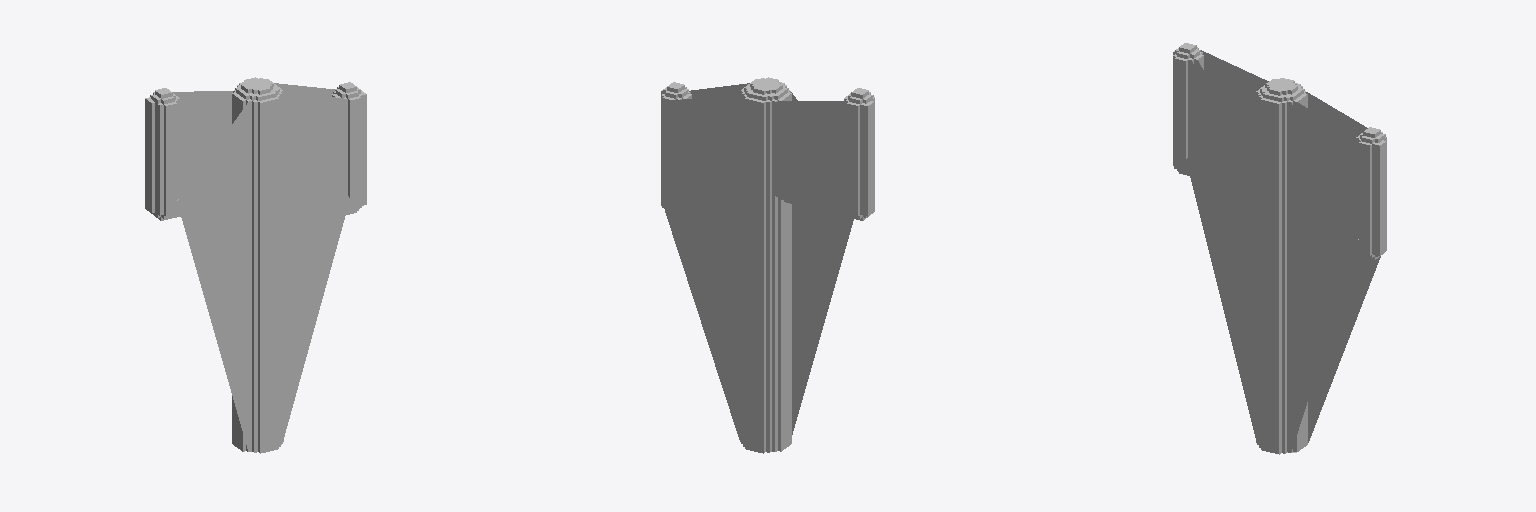
Rendered from Cactus2.obj.
3 renders of one model, left to right at view 1: azimuth 30°, elevation 25°; view 2: azimuth 150°, elevation 25°; view 3: azimuth 330°, elevation 25°, orthographic.
Visible parts, largest first — view 1: Untitled; view 2: Untitled; view 3: Untitled.
Part boxes in pixels (x1,y1,x2,y2): Untitled: (145,77,366,453); Untitled: (661,77,874,453); Untitled: (1173,43,1386,454).
Bounding box in the file's own units: 5.6 × 9.5 × 1.1.